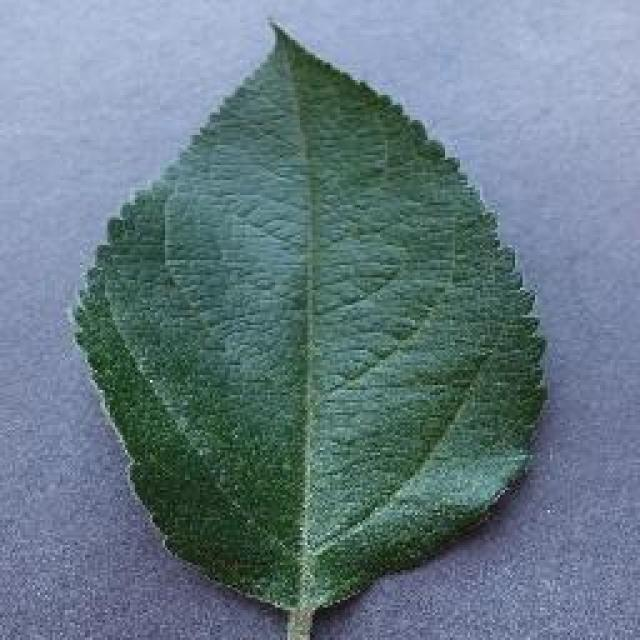apple healthy: (68, 15, 550, 637)
